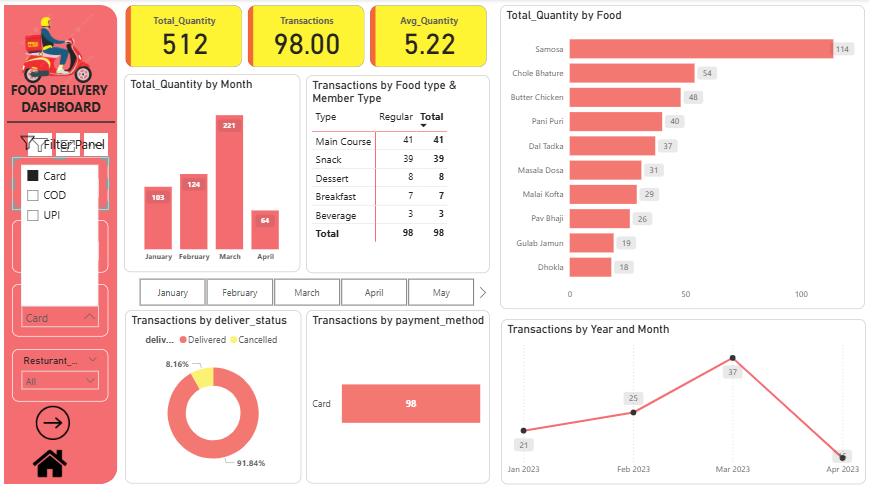

What the dashboard file says about the page in this screenshot:
{"tool":"powerbi","page":{"name":"Page 1","canvas":[1280,720],"ordinal":0},"visuals":[{"type":"shape","box":[8.1,8.1,166.3,701.2],"z":0},{"type":"image","box":[7.9,9,158.3,132.3],"z":1000},{"type":"textbox","box":[12.8,116.3,158.1,70.9],"z":2000},{"type":"shape","box":[13.2,165.4,158,29.3],"z":3000},{"type":"cardVisual","fields":{"Data":["Sales Data.Total_Quantity","Sales Data.Transactions","Sales Data.Avg_Quantity"]},"box":[181.4,9.3,539.5,103.5],"z":4000},{"type":"clusteredColumnChart","fields":{"Y":["Sales Data.Total_Quantity"],"Category":["Sales Data.orderDate.Variation.Date Hierarchy.Month"]},"box":[184.9,110.5,258.1,289.5],"z":5000},{"type":"pivotTable","title":"Transactions by Food type & Member Type","fields":{"Rows":["Food_Details.Type"],"Columns":["Customer Details.member_Type"],"Values":["Sales Data.Transactions"]},"box":[451.5,111.1,269,289.5],"z":6000},{"type":"donutChart","fields":{"Category":["Sales Data.deliver_status"],"Y":["Sales Data.Transactions"]},"box":[185.2,455.6,258,253.9],"z":7000},{"type":"funnel","fields":{"Category":["Sales Data.payment_method"],"Y":["Sales Data.Transactions"]},"box":[451.5,455.6,269,253.9],"z":8000},{"type":"clusteredBarChart","fields":{"Y":["Sales Data.Total_Quantity"],"Category":["Food_Details.Food"]},"box":[734.9,9.3,533.7,445.4],"z":9000},{"type":"lineChart","fields":{"Y":["Sales Data.Transactions"],"Category":["Sales Data.orderDate.Variation.Date Hierarchy.Year","Sales Data.orderDate.Variation.Date Hierarchy.Month"]},"box":[735.5,467.9,533.8,241.5],"z":10000},{"type":"slicer","fields":{"Values":["Sales Data.orderDate.Variation.Date Hierarchy.Month"]},"box":[20.6,231.9,141.3,76.8],"z":11000},{"type":"slicer","fields":{"Values":["Customer Details.member_Type"]},"box":[20.6,323.8,141.3,76.8],"z":12000},{"type":"slicer","fields":{"Values":["Sales Data.payment_method"]},"box":[20.6,417.2,141.3,76.8],"z":13000},{"type":"slicer","fields":{"Values":["Resturant_Details.Resturant_type"]},"box":[20.6,511.8,141.3,76.8],"z":14000},{"type":"slicer","fields":{"Values":["Sales Data.orderDate.Variation.Date Hierarchy.Month"]},"box":[180.9,402.5,539.3,53.1],"z":15000},{"type":"image","box":[24.7,194.9,37,31.6],"z":16000},{"type":"textbox","box":[61.7,194.9,123.5,37],"z":17000},{"type":"image","box":[43.9,649.1,64.5,60.4],"z":18000},{"type":"image","box":[46.7,587.3,67.2,67.2],"z":19000}]}

Visuals, with their boxes in screenshot pixels (x1, y1, x2, y2), scaled from the page's 1280x720 canvas onto the 869x487 screenshot:
shape: <bbox>5, 5, 118, 480</bbox>
image: <bbox>5, 6, 113, 96</bbox>
textbox: <bbox>9, 79, 116, 127</bbox>
shape: <bbox>9, 112, 116, 132</bbox>
cardVisual - Sales Data.Total_Quantity x Sales Data.Transactions: <bbox>123, 6, 489, 76</bbox>
clusteredColumnChart - Sales Data.Total_Quantity x Sales Data.orderDate.Variation.Date Hierarchy.Month: <bbox>126, 75, 301, 271</bbox>
"Transactions by Food type & Member Type" pivotTable: <bbox>307, 75, 489, 271</bbox>
donutChart - Sales Data.deliver_status x Sales Data.Transactions: <bbox>126, 308, 301, 480</bbox>
funnel - Sales Data.payment_method x Sales Data.Transactions: <bbox>307, 308, 489, 480</bbox>
clusteredBarChart - Sales Data.Total_Quantity x Food_Details.Food: <bbox>499, 6, 861, 308</bbox>
lineChart - Sales Data.Transactions x Sales Data.orderDate.Variation.Date Hierarchy.Year: <bbox>499, 316, 862, 480</bbox>
slicer - Sales Data.orderDate.Variation.Date Hierarchy.Month: <bbox>14, 157, 110, 209</bbox>
slicer - Customer Details.member_Type: <bbox>14, 219, 110, 271</bbox>
slicer - Sales Data.payment_method: <bbox>14, 282, 110, 334</bbox>
slicer - Resturant_Details.Resturant_type: <bbox>14, 346, 110, 398</bbox>
slicer - Sales Data.orderDate.Variation.Date Hierarchy.Month: <bbox>123, 272, 489, 308</bbox>
image: <bbox>17, 132, 42, 153</bbox>
textbox: <bbox>42, 132, 126, 157</bbox>
image: <bbox>30, 439, 74, 480</bbox>
image: <bbox>32, 397, 77, 443</bbox>
